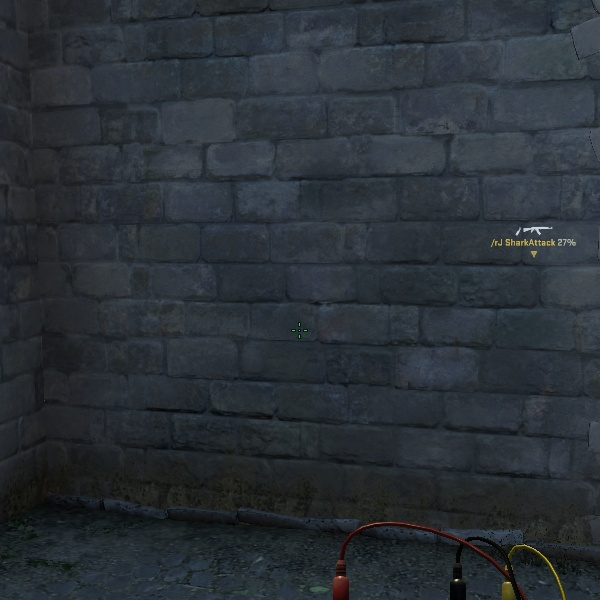ct_body: (0, 4, 600, 311)
